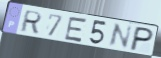5: (88, 20, 109, 46)
7: (47, 13, 65, 38)
E: (62, 16, 89, 44)
N: (106, 23, 134, 50)
P: (127, 26, 155, 53)
R: (18, 10, 44, 35)
